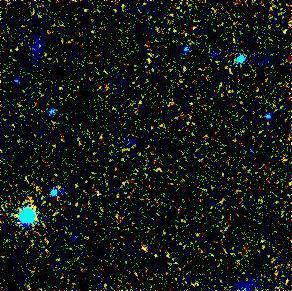star: (129, 240, 159, 270)
